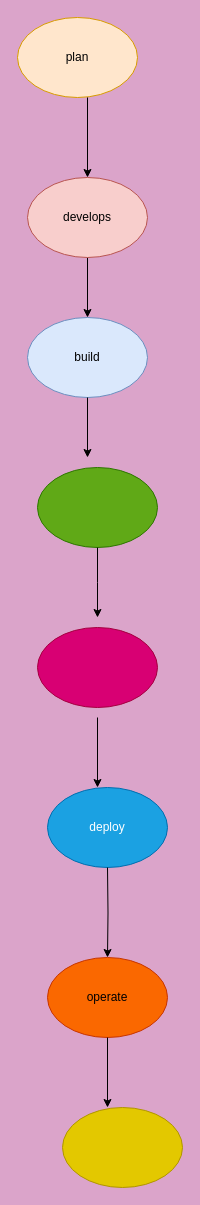
Image size: 200x1205. Some labels were removed from this diagram. The box of each missing label's shape, as (x1, y1, x2, y2) in pixels:
monitor: (62, 1106, 182, 1188)
release: (36, 626, 158, 708)
test: (36, 466, 158, 548)
